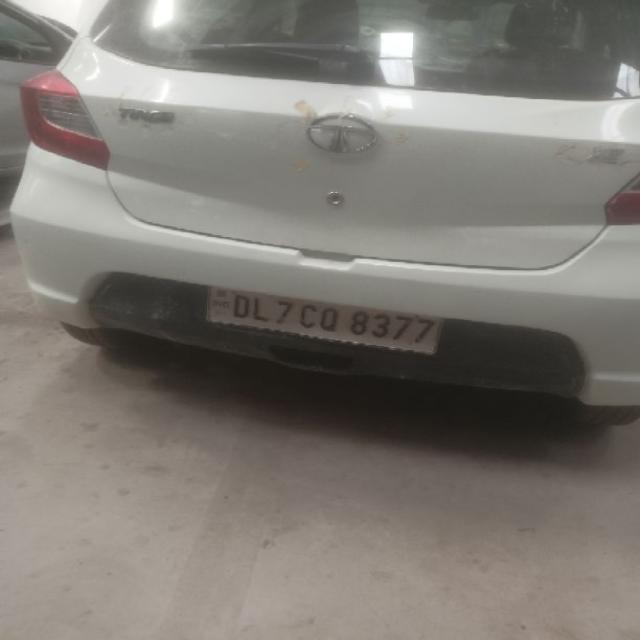license_plate: (203, 285, 444, 356)
